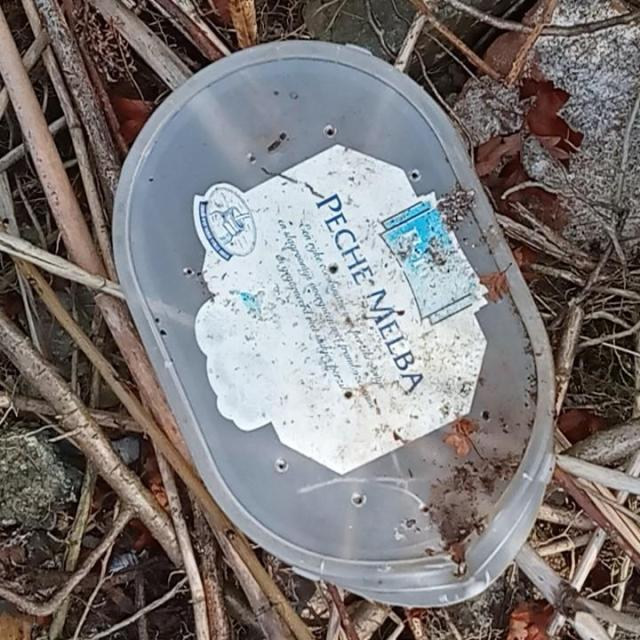Paper: (105, 31, 560, 612)
